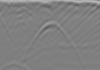hyperbola: (24, 18, 86, 65)
